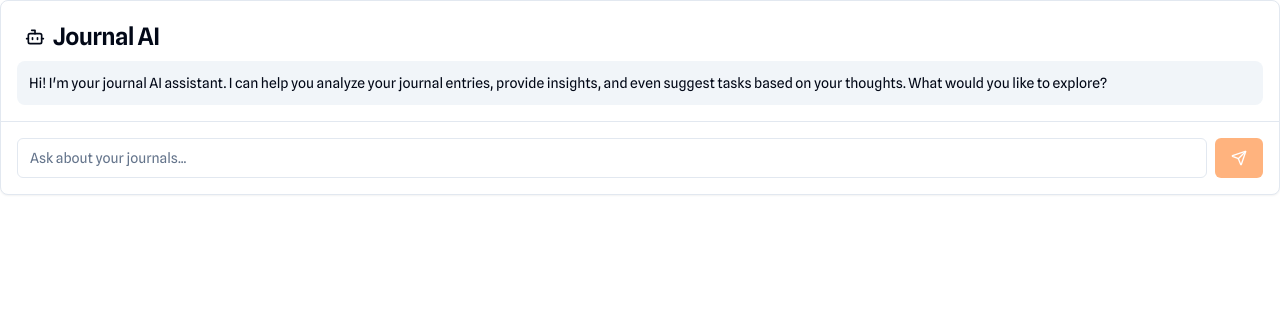
Scenario: JournalChat › user can send a message and see it in chat
Type "Hi" into the field with placeholder "Ask about your journals...".
click(612, 158); type("Hi")  # box [17,138,1207,178]
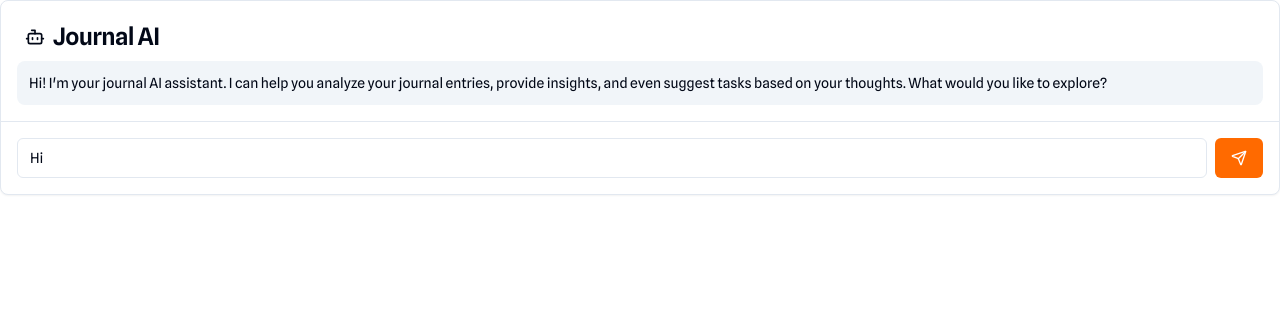
Click the button.
click(1239, 158)  # box [1215,138,1263,178]
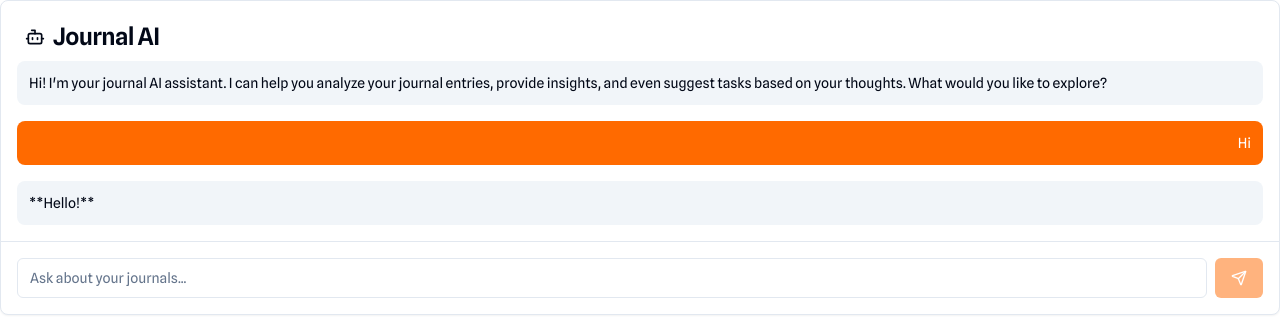
Now the text "Hi" is shown, box [1238,135,1251,151]
Now the text "**Hello!**" is shown, box [29,195,94,211]
